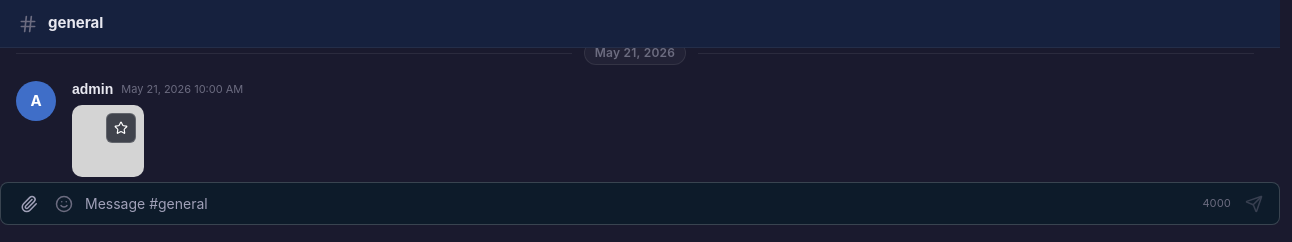
Test: ChatArea regressions › lets a shared GIF be saved to the same favorites store as the picker
(page scrolled)
Click the button named "Add GIF to favorites" at coordinates (121, 128), box top-left (106, 113), bottom-right (136, 143)
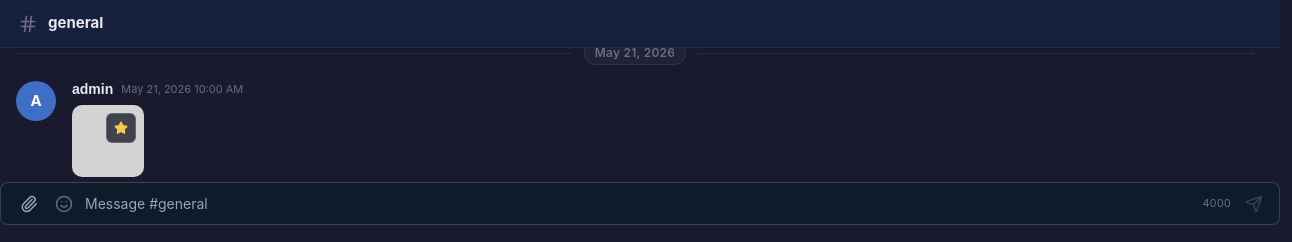
Check: the button named "Remove GIF from favorites" is shown, box top-left (106, 113), bottom-right (136, 143)
